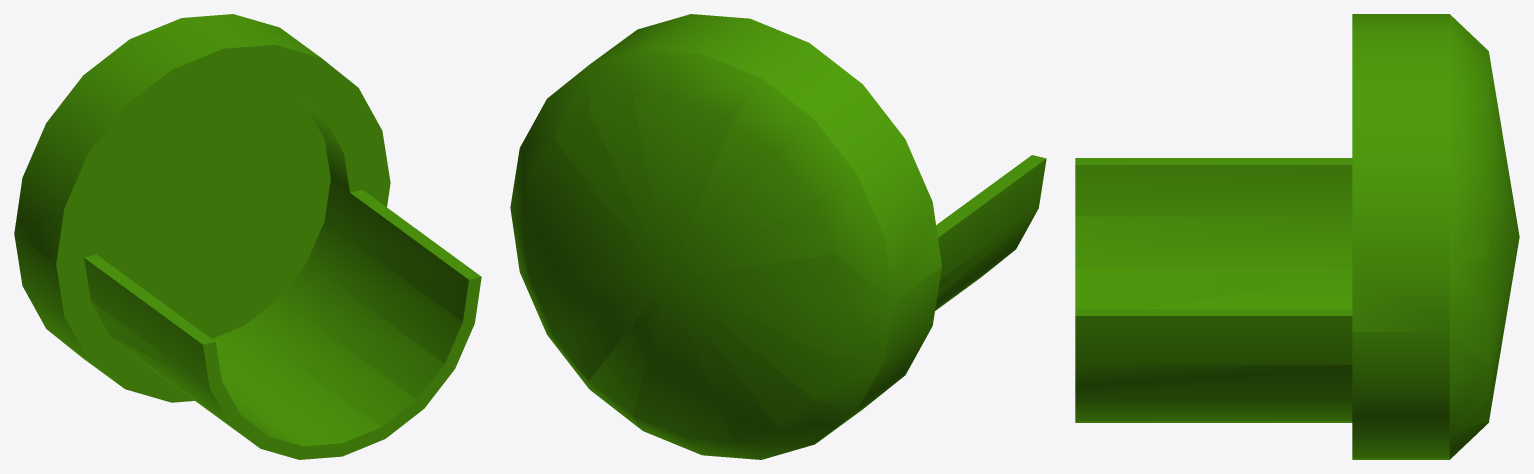
Rendered from PipeEnd.fbx.
3 views of the same model, side by side, from view 1: azimuth 30°, elevation 25°; view 2: azimuth 150°, elevation 25°; view 3: azimuth 270°, elevation 25° (orthographic). The views are drawn at different scales.
Visible parts, largest first — view 1: pCylinder6; view 2: pCylinder6; view 3: pCylinder6.
Part boxes in pixels (x1,y1,x2,y2): pCylinder6: (14,14,481,459); pCylinder6: (510,14,1046,459); pCylinder6: (1075,14,1519,459).
Size of the model in its own units: 2.64 by 2.64 by 2.61.
